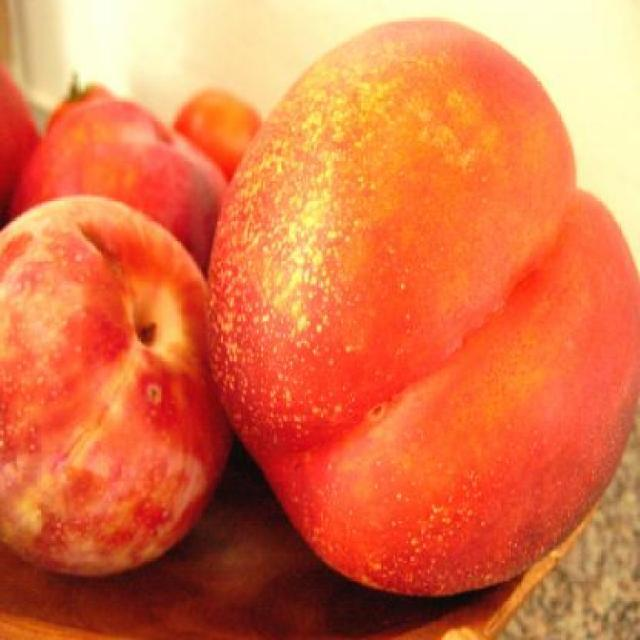Peach: (0, 18, 640, 600)
